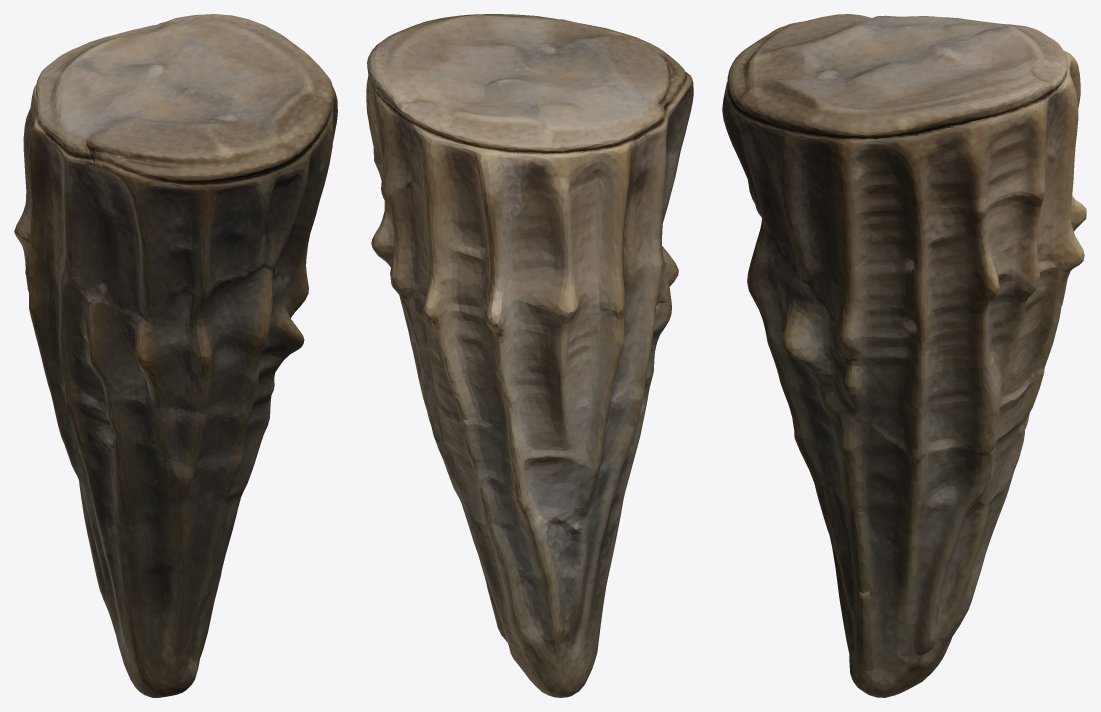
The picture shows the model from 3 angles, left to right: view 1: azimuth 30°, elevation 25°; view 2: azimuth 150°, elevation 25°; view 3: azimuth 270°, elevation 25°; orthographic projection. The views are drawn at different scales.
Parts seen in each view (by area): view 1: world; view 2: world; view 3: world.
Boxes of the visible parts, box(x1,y1,x2,y2) form: world: box(14, 14, 337, 697); world: box(366, 14, 693, 697); world: box(722, 14, 1086, 697).
Size of the model in its own units: 0.0927 by 0.21 by 0.1046.
1 material, 1 textured.
